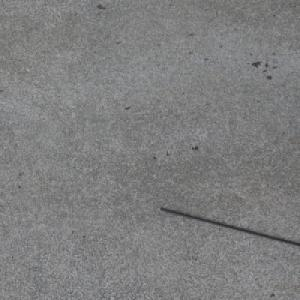LuggagePart: (157, 206, 300, 247)
